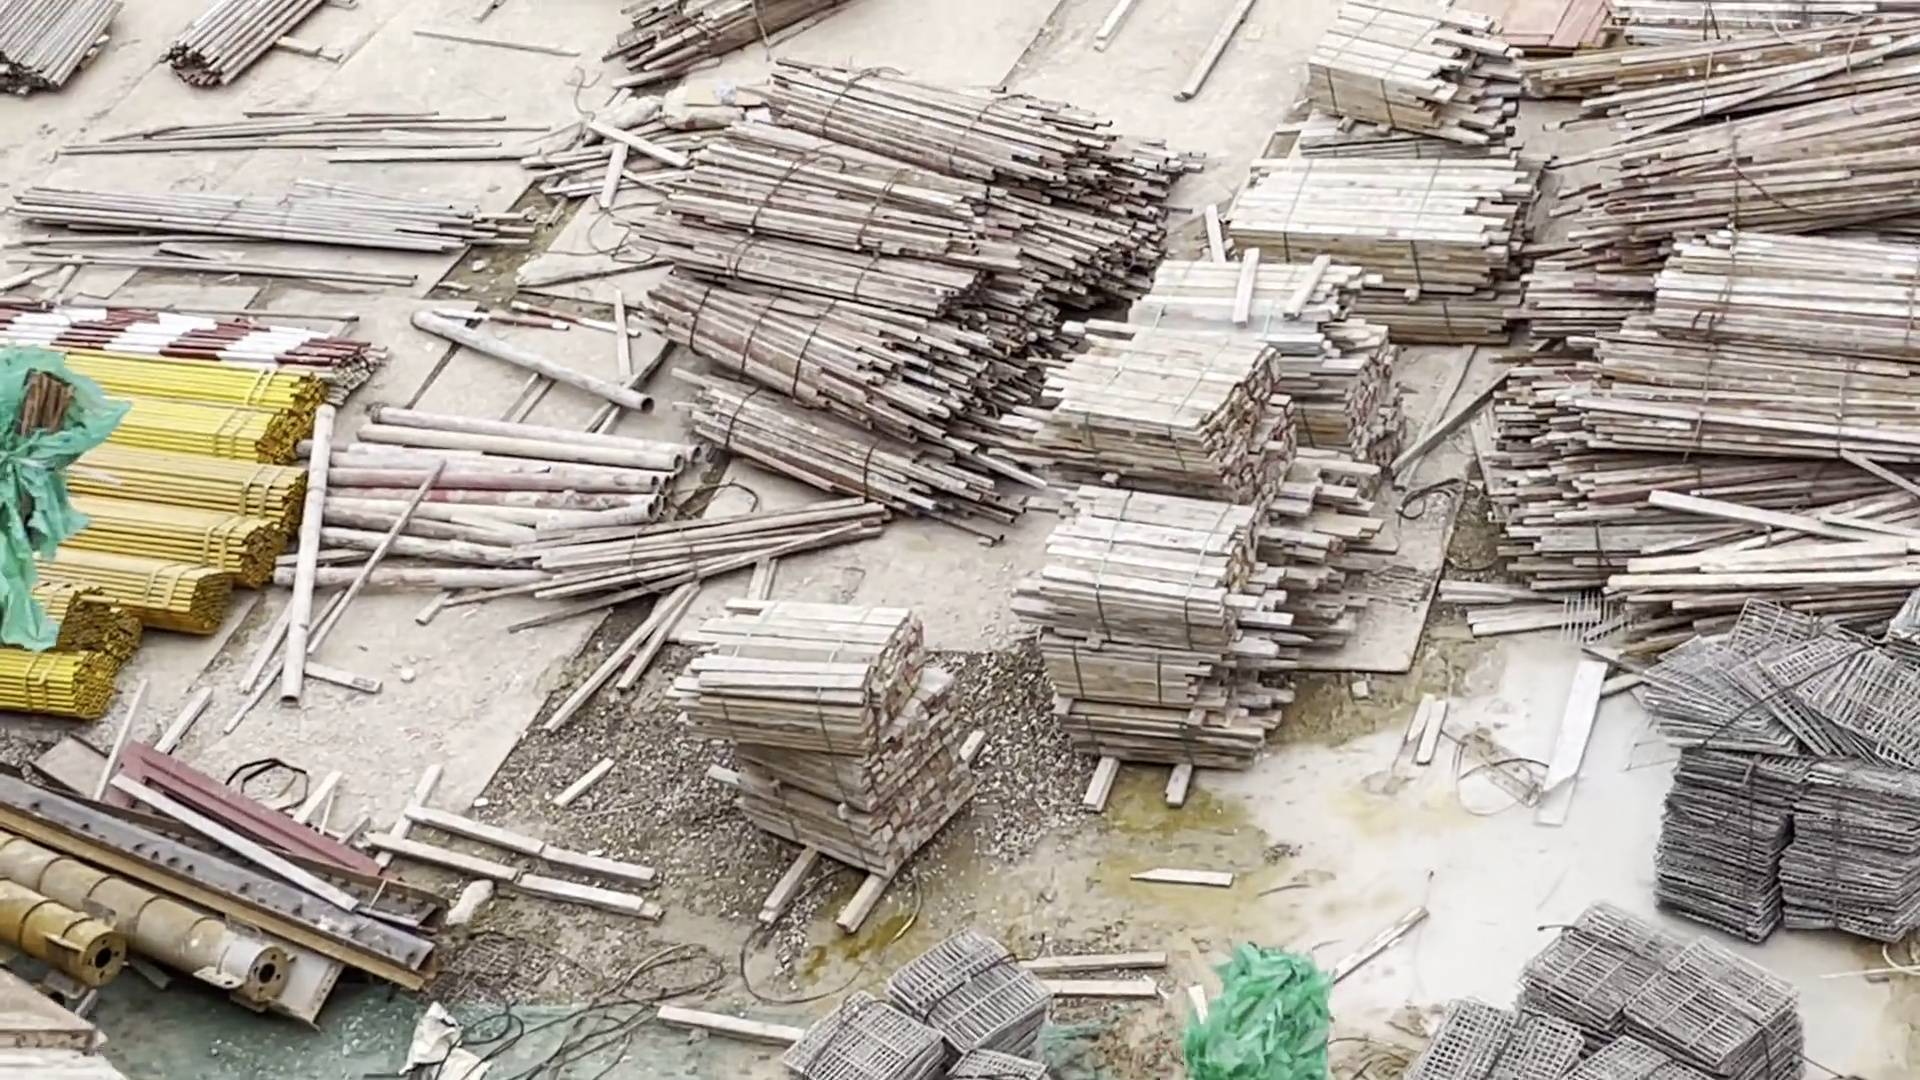wood: (1513, 1, 1920, 613), (1052, 264, 1419, 782), (674, 44, 1065, 520), (683, 593, 986, 881), (1232, 1, 1518, 287)
